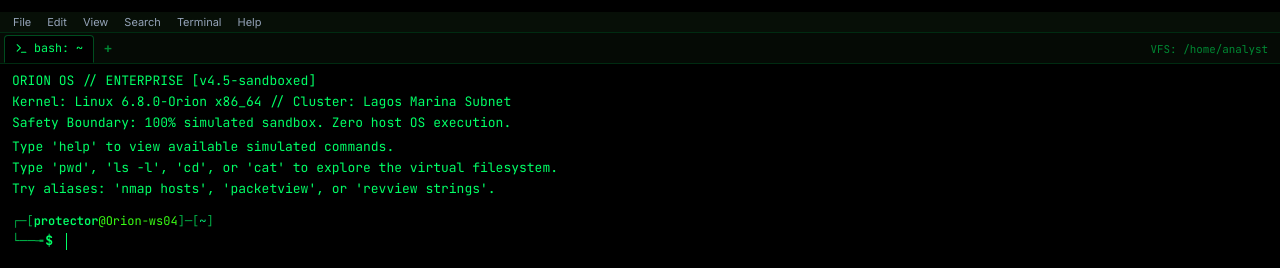
Test case: TerminalApp Component › supports Tab completion for manual command entry
The width and height of the screenshot is (1280, 268).
In the field with test id "terminal-command-input": (667, 241) top-left (66, 231), bottom-right (1268, 252), type "who"
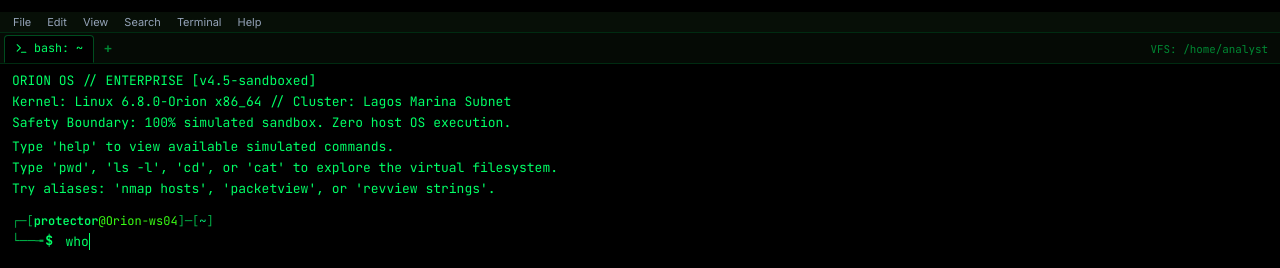
Press Tab in the field with test id "terminal-command-input", box top-left (66, 231), bottom-right (1268, 252)
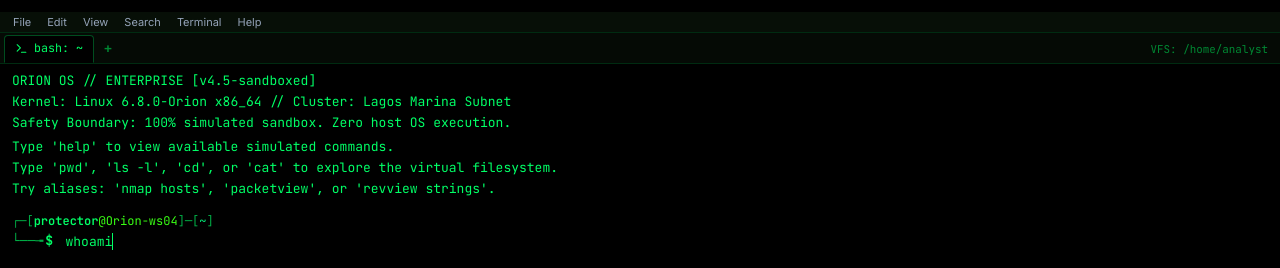
Now the field with test id "terminal-command-input" holds "whoami", box top-left (66, 231), bottom-right (1268, 252)
